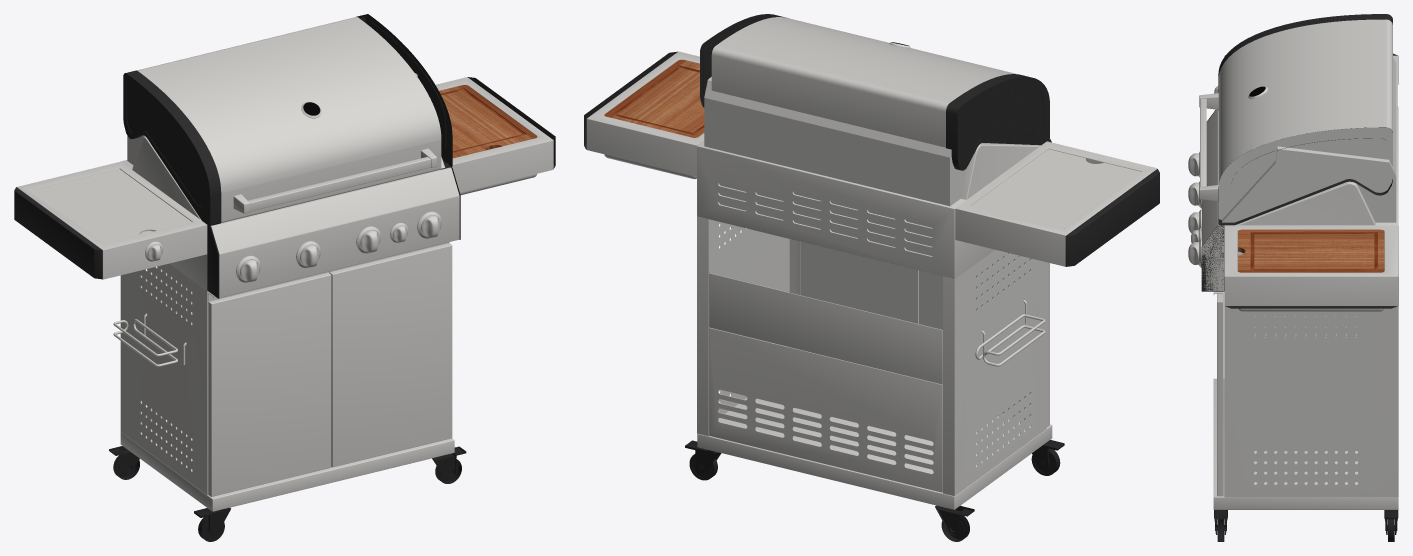
File: barbecue_7.glb
The picture shows the model from 3 angles, left to right: view 1: azimuth 30°, elevation 25°; view 2: azimuth 150°, elevation 25°; view 3: azimuth 270°, elevation 25°; orthographic projection. The views are drawn at different scales.
Parts seen in each view (by area): view 1: Cube.004_0, Cube.007_1; view 2: Cube.004_0, Cube.007_1; view 3: Cube.004_0.
Part boxes in pixels (left/top/right/bottom): Cube.004_0: left=14, top=14, right=555, bottom=541; Cube.007_1: left=113, top=319, right=177, bottom=366; Cube.004_0: left=584, top=14, right=1159, bottom=541; Cube.007_1: left=975, top=314, right=1045, bottom=366; Cube.004_0: left=1188, top=14, right=1398, bottom=541.
Size of the model in its own units: 1.4 by 1.18 by 0.55.
Materials: 6 (4 with a texture image).
